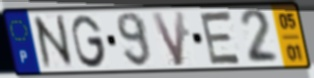2: (238, 7, 281, 67)
9: (115, 11, 154, 70)
E: (197, 9, 244, 66)
G: (70, 13, 109, 69)
N: (29, 12, 77, 72)
V: (149, 9, 187, 69)
